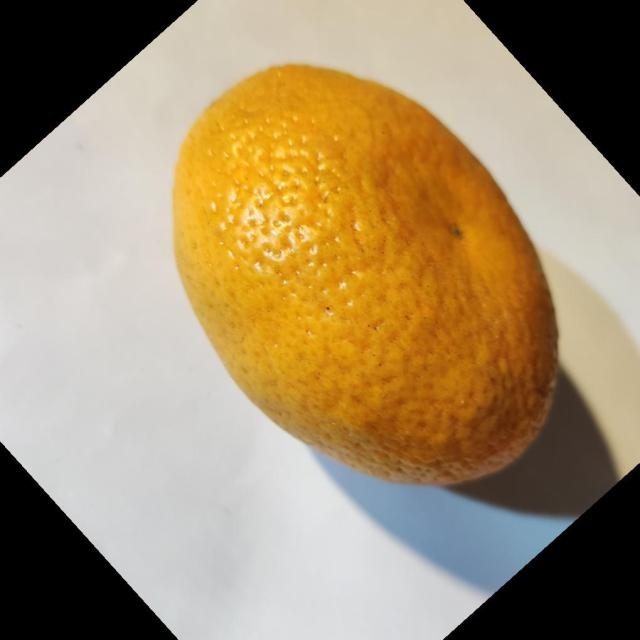agrume: (171, 61, 560, 487)
